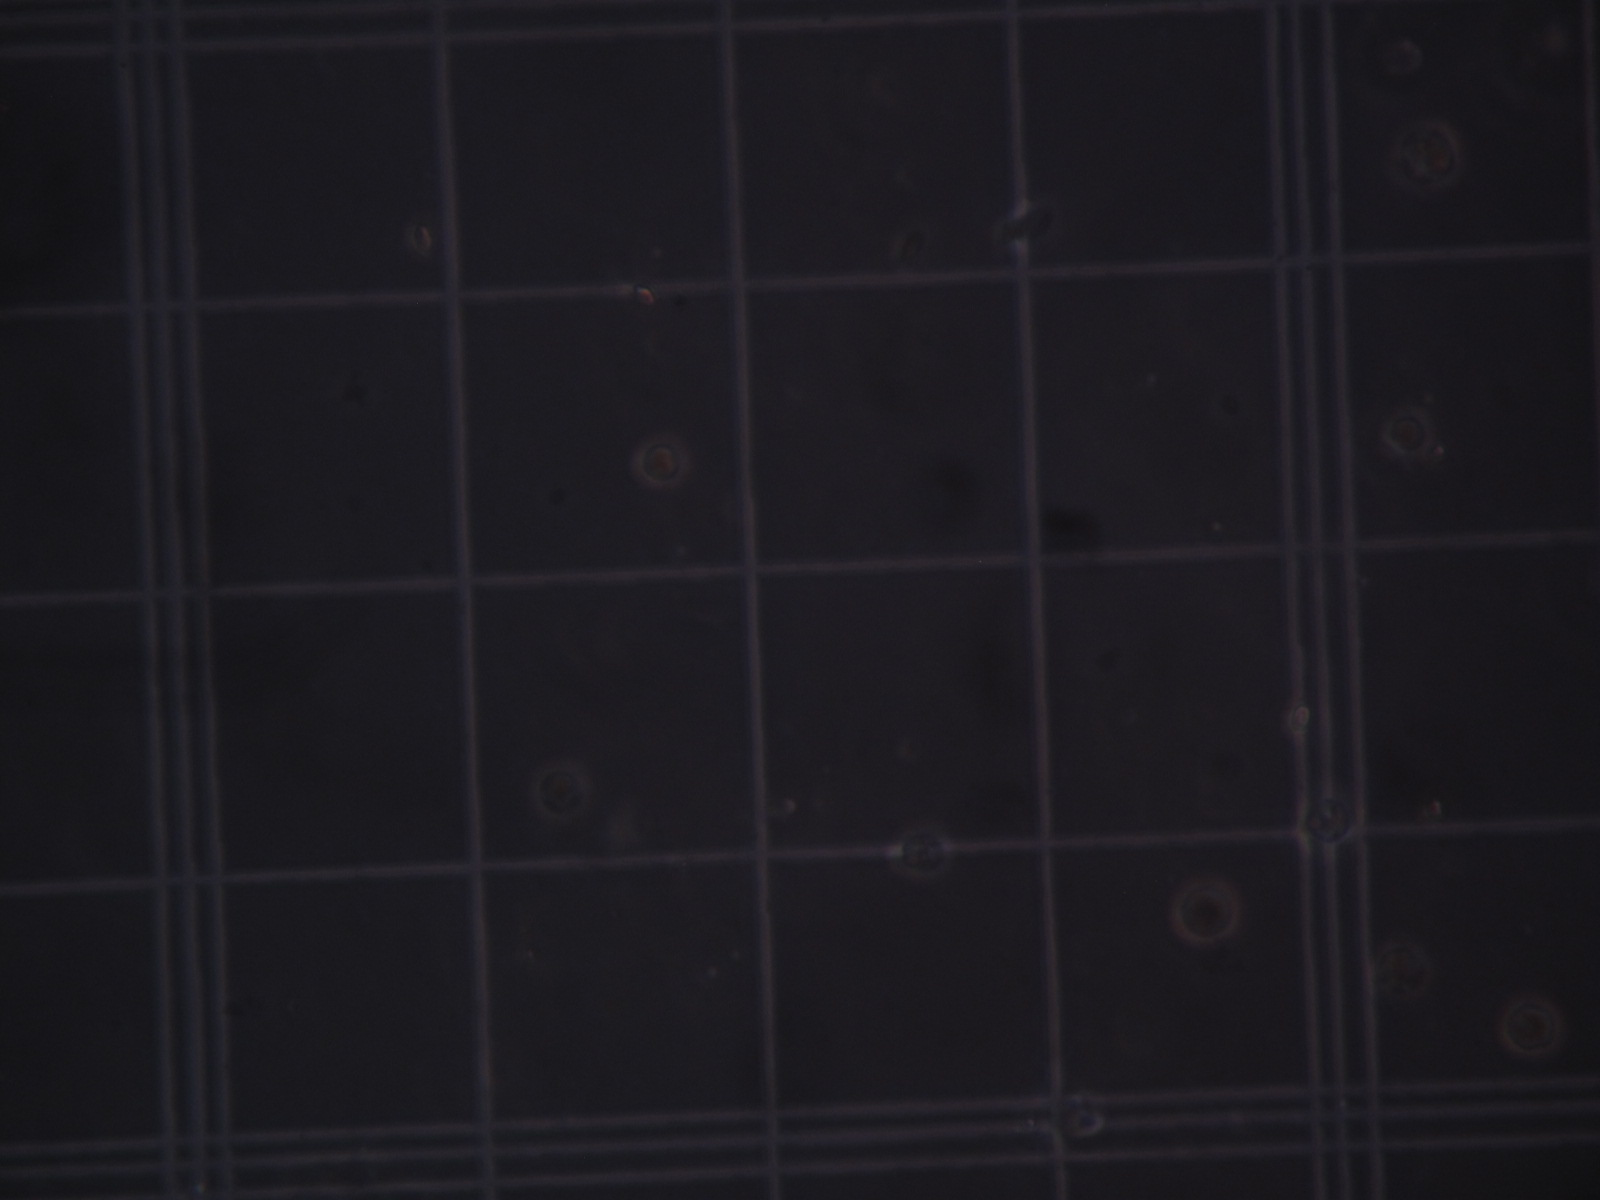hemo: (1170, 879, 1243, 944), (888, 822, 956, 880), (530, 759, 590, 823), (1293, 790, 1356, 848), (634, 436, 694, 493), (1386, 402, 1434, 458)
